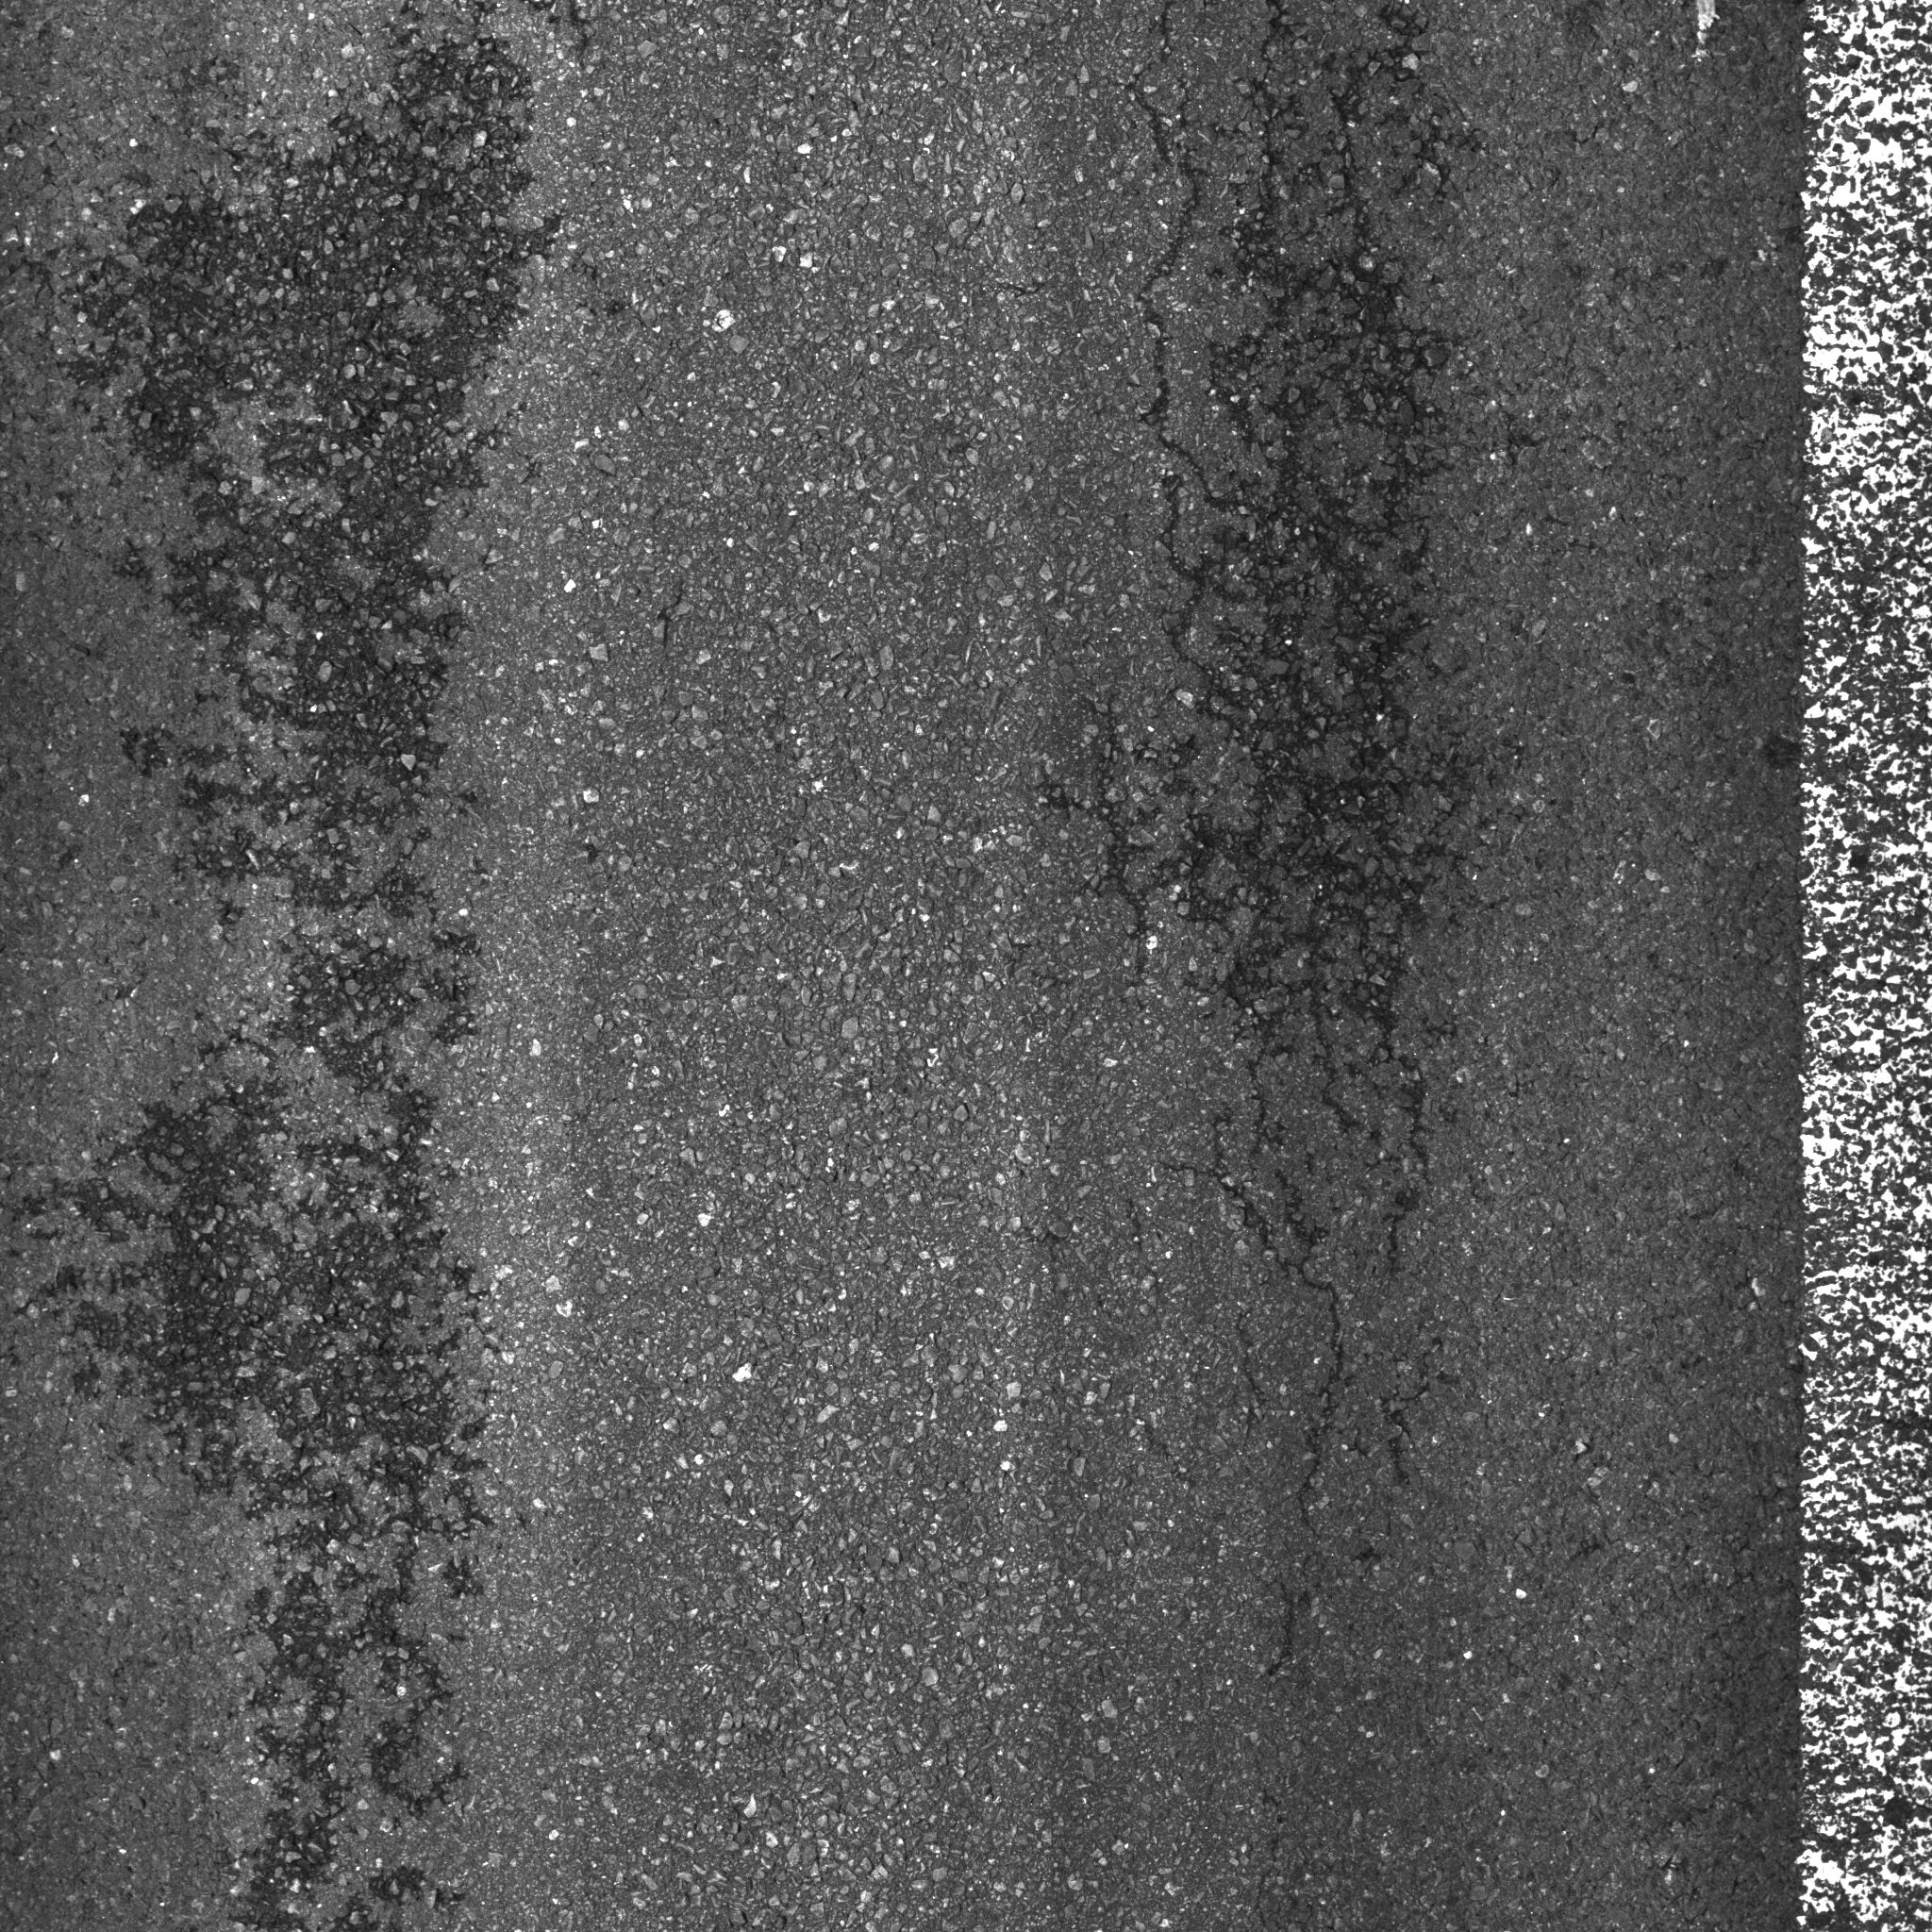alligator: (1017, 18, 1635, 1654)
